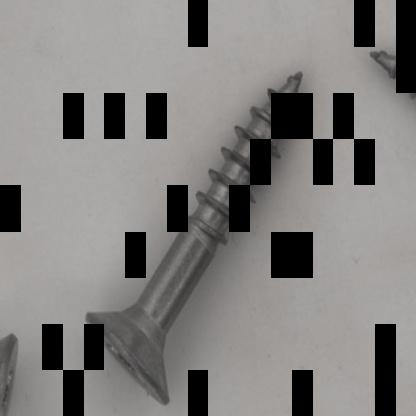metal: (83, 71, 305, 405)
